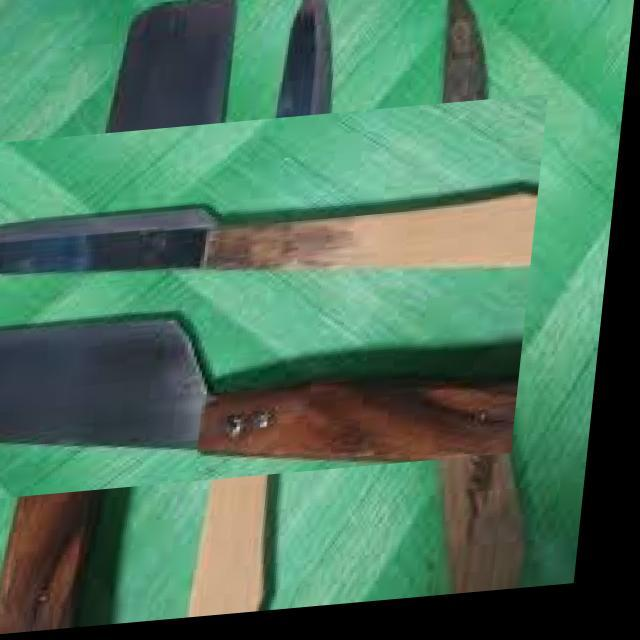knife: (0, 312, 520, 464), (0, 182, 540, 270)
